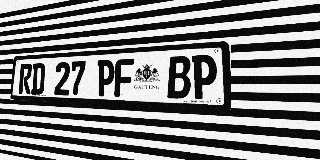2: (54, 62, 70, 95)
7: (69, 61, 86, 96)
B: (167, 56, 191, 99)
D: (31, 63, 45, 95)
F: (114, 58, 134, 97)
P: (191, 54, 217, 100), (96, 59, 115, 97)
R: (18, 64, 32, 94)
